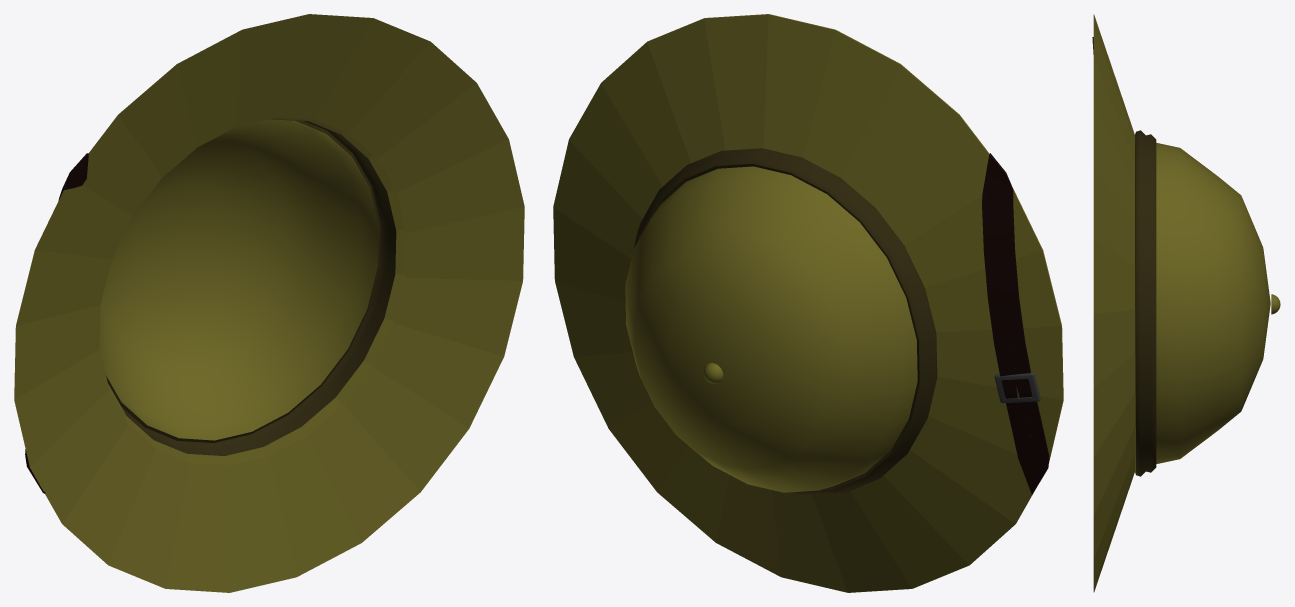
Rendered from explorer.FBX.
3 renders of one model, left to right at view 1: azimuth 30°, elevation 25°; view 2: azimuth 150°, elevation 25°; view 3: azimuth 270°, elevation 25°, orthographic. The views are drawn at different scales.
Visible parts, largest first — view 1: explorers hat; view 2: explorers hat; view 3: explorers hat.
Boxes of the visible parts, x1=… form: explorers hat: x1=14, y1=14, x2=524, y2=592; explorers hat: x1=553, y1=14, x2=1063, y2=592; explorers hat: x1=1092, y1=14, x2=1280, y2=592.
Size of the model in its own units: 31.2 by 10.56 by 32.75.
